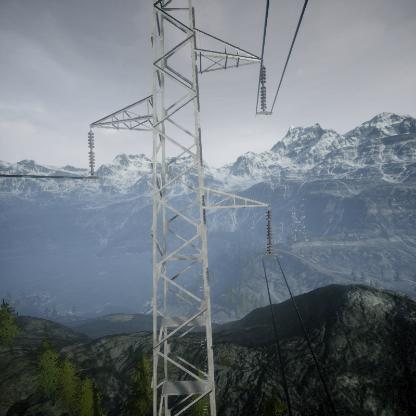insulator: (86, 130, 99, 175), (263, 210, 276, 254), (259, 63, 267, 111)
